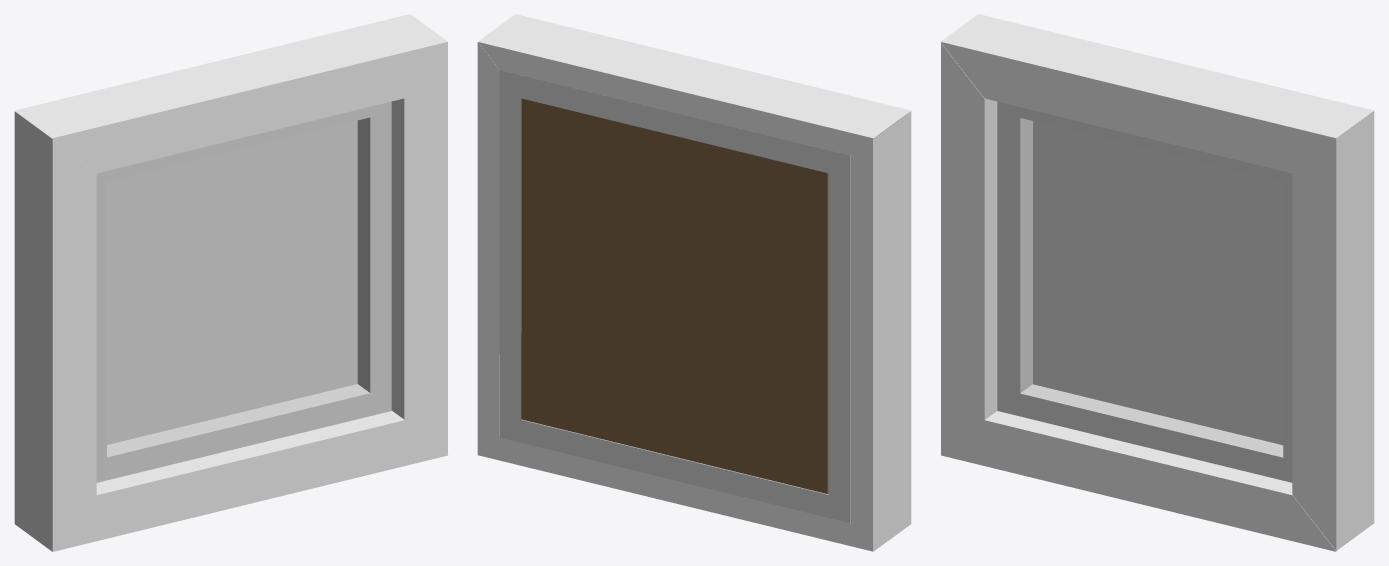
File: cuadroDoble.glb
The picture shows the model from 3 angles, left to right: view 1: azimuth 30°, elevation 25°; view 2: azimuth 150°, elevation 25°; view 3: azimuth 330°, elevation 25°; orthographic projection.
Parts seen in each view (by area): view 1: imagen, vidrio, liston.008, liston.006, liston.007, liston.005, liston.002, liston.003, liston.001, liston.004; view 2: tapa, liston.008, liston.006, liston.007, liston.005, liston.003, liston.001, liston.002, liston.004; view 3: imagen, vidrio, liston.007, liston.006, liston.008, liston.005, liston.001, liston.003, liston.004, liston.002.
Part boxes in pixels (<box>): imagen: <box>107,121,357,444</box>; vidrio: <box>107,121,357,444</box>; liston.008: <box>14,111,96,551</box>; liston.006: <box>14,14,447,173</box>; liston.007: <box>391,42,447,454</box>; liston.005: <box>53,411,448,551</box>; liston.002: <box>357,101,391,409</box>; liston.003: <box>96,384,391,482</box>; liston.001: <box>93,171,106,469</box>; liston.004: <box>97,104,379,181</box>; tapa: <box>521,98,828,493</box>; liston.008: <box>851,111,911,551</box>; liston.006: <box>478,14,911,155</box>; liston.007: <box>477,42,499,454</box>; liston.005: <box>478,437,872,551</box>; liston.003: <box>499,419,849,522</box>; liston.001: <box>828,155,852,522</box>; liston.002: <box>499,71,521,436</box>; liston.004: <box>499,70,849,173</box>; imagen: <box>1033,121,1283,444</box>; vidrio: <box>1033,121,1283,444</box>; liston.007: <box>1292,111,1374,550</box>; liston.006: <box>940,14,1373,173</box>; liston.008: <box>941,43,997,454</box>; liston.005: <box>941,411,1374,551</box>; liston.001: <box>997,101,1032,410</box>; liston.003: <box>998,384,1292,482</box>; liston.004: <box>1010,105,1292,181</box>; liston.002: <box>1283,175,1292,468</box>.
Size of the model in its own units: 1.81 by 1.8 by 0.3017.
